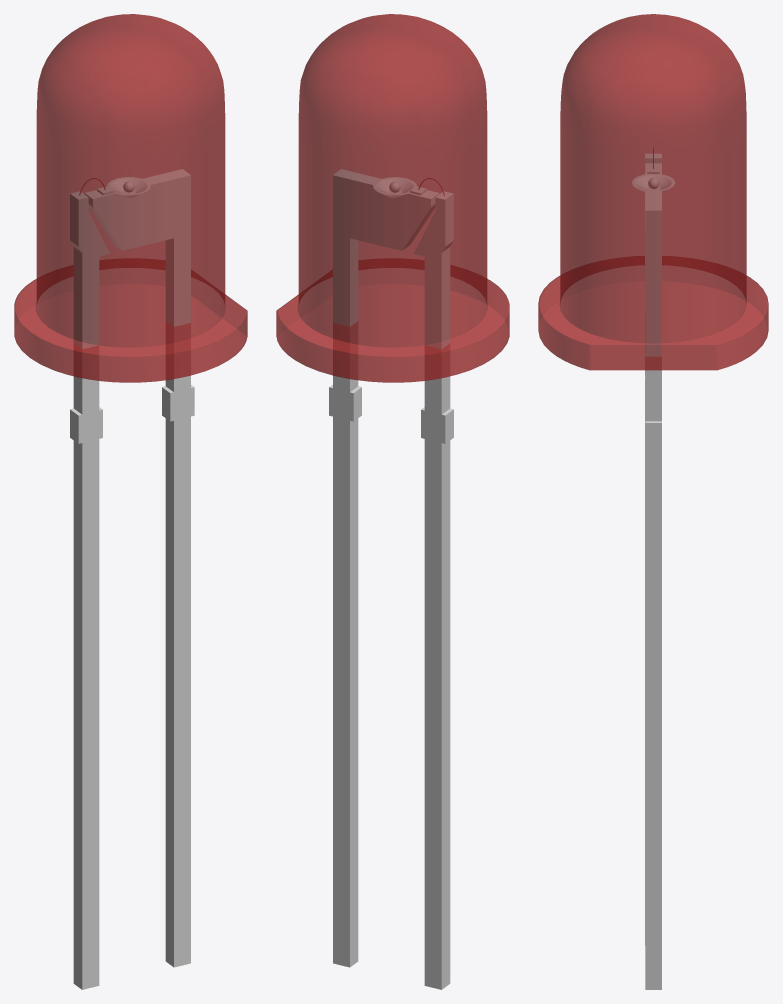
File: diode menu.fbx
3 renders of one model, left to right at view 1: azimuth 30°, elevation 25°; view 2: azimuth 150°, elevation 25°; view 3: azimuth 270°, elevation 25°, orthographic.
Parts seen in each view (by area): view 1: 002-0-2, 003-0-3; view 2: 002-0-2, 003-0-3; view 3: 002-0-2, 003-0-3.
Boxes of the visible parts, x1,y1,x2,y2 form: 002-0-2: (14,14,247,382); 003-0-3: (70,169,194,989); 002-0-2: (276,14,509,382); 003-0-3: (329,169,453,989); 002-0-2: (538,14,768,370); 003-0-3: (632,154,674,989).
Size of the model in its own units: 699 by 3421 by 761.
